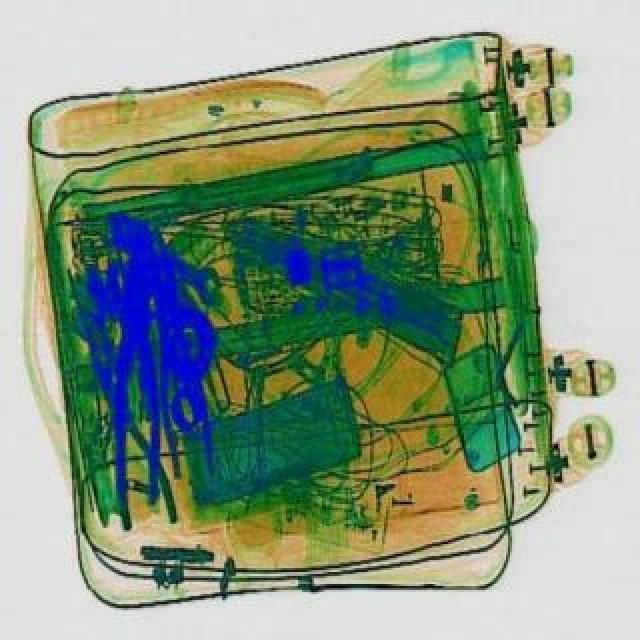scissors: (96, 208, 234, 312)
wrench: (62, 312, 178, 536), (110, 292, 166, 534)
